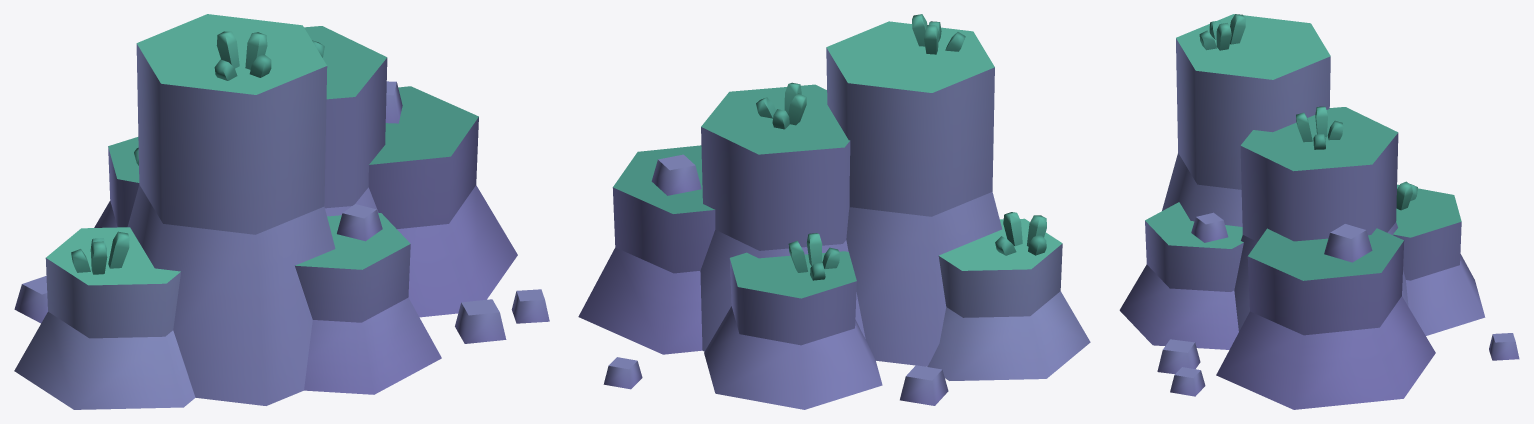
File: rocks-sand-a.fbx
The picture shows the model from 3 angles, left to right: view 1: azimuth 30°, elevation 25°; view 2: azimuth 150°, elevation 25°; view 3: azimuth 270°, elevation 25°; orthographic projection. The views are drawn at different scales.
Parts seen in each view (by area): view 1: rocks-sand-a; view 2: rocks-sand-a; view 3: rocks-sand-a.
Boxes of the visible parts, x1,y1,x2,y2 form: rocks-sand-a: (14, 14, 549, 409); rocks-sand-a: (578, 14, 1090, 409); rocks-sand-a: (1119, 14, 1519, 409).
Bounding box in the file's own units: 511 × 321 × 439.
